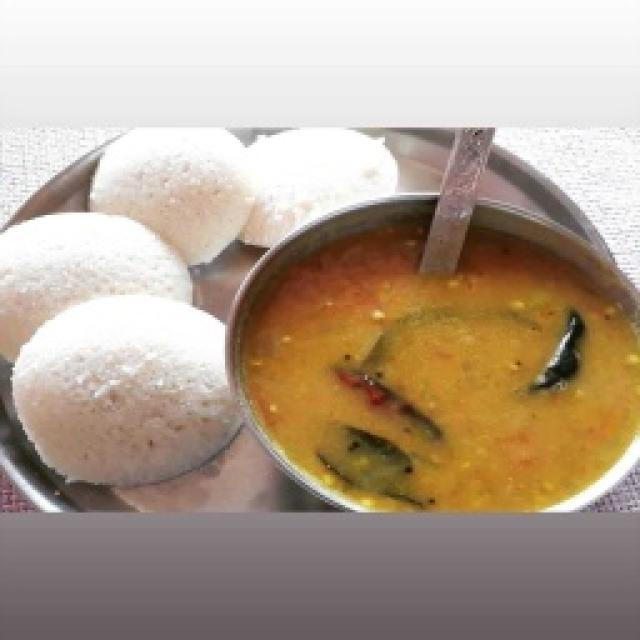idli: (51, 120, 352, 500)
